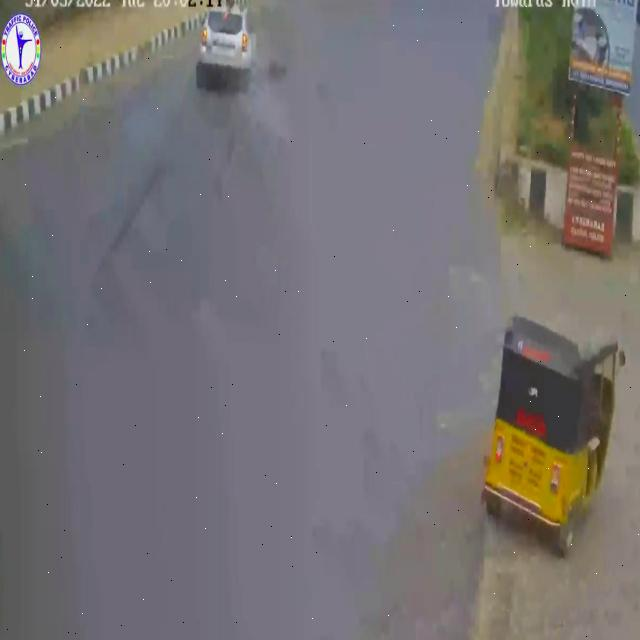accident: (188, 6, 290, 111)
